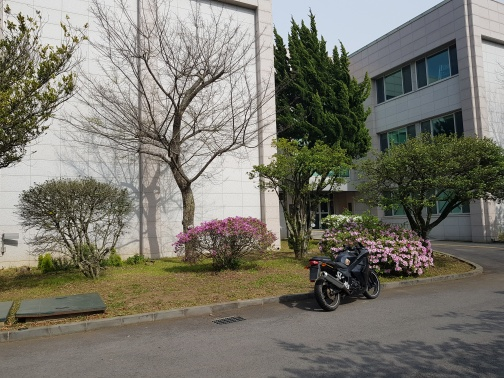College of Nursing: (12, 4, 493, 238)
